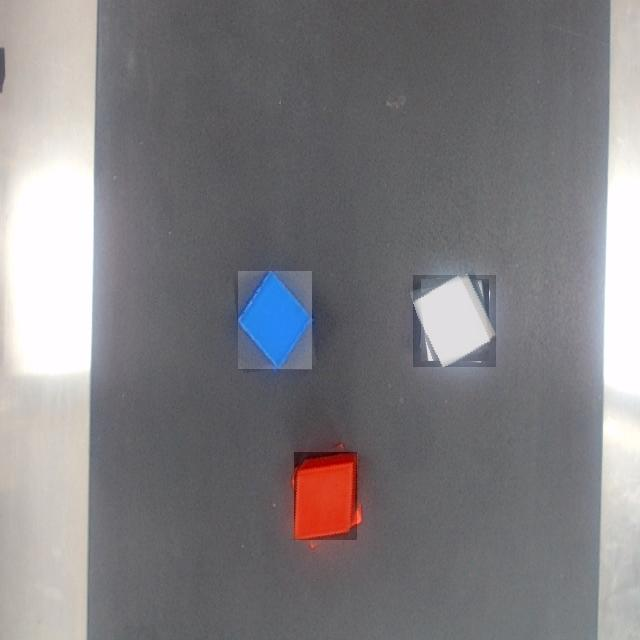Azul: (238, 272, 312, 369)
Blanco: (414, 275, 496, 367)
Rojo: (295, 453, 357, 540)
